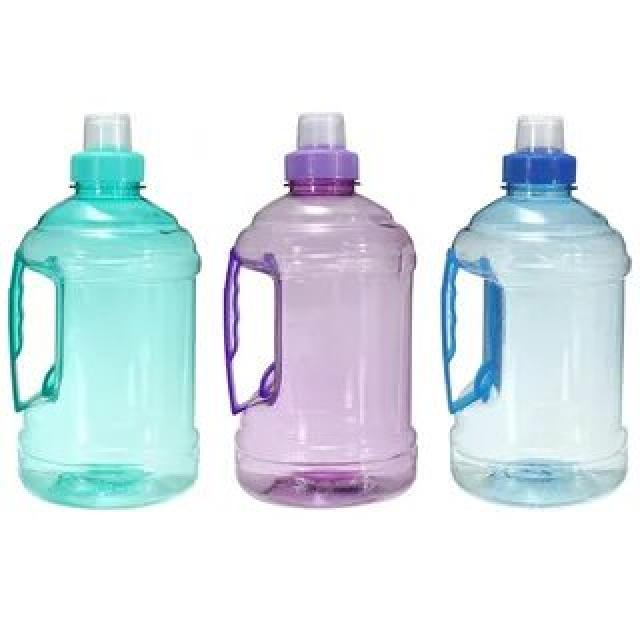blue: (442, 183, 630, 505)
